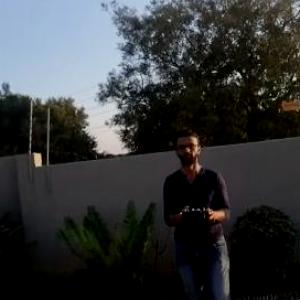follow: (158, 123, 238, 299)
